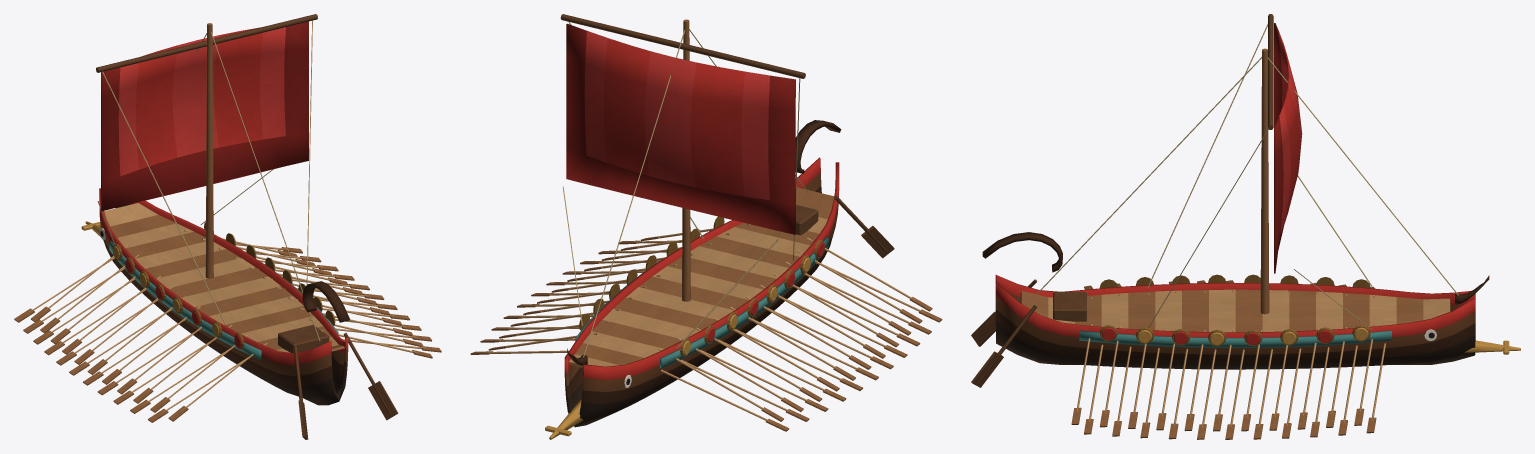
Rendered from trireme.glb.
The picture shows the model from 3 angles, left to right: view 1: azimuth 30°, elevation 25°; view 2: azimuth 150°, elevation 25°; view 3: azimuth 270°, elevation 25°; orthographic projection. The views are drawn at different scales.
Parts seen in each view (by area): view 1: SM_trireme; view 2: SM_trireme; view 3: SM_trireme.
Boxes of the visible parts, x1=… form: SM_trireme: x1=14, y1=14, x2=441, y2=439; SM_trireme: x1=470, y1=14, x2=942, y2=439; SM_trireme: x1=971, y1=14, x2=1520, y2=439.
Size of the model in its own units: 7.7 by 7.19 by 11.28.
1 material, 1 textured.
